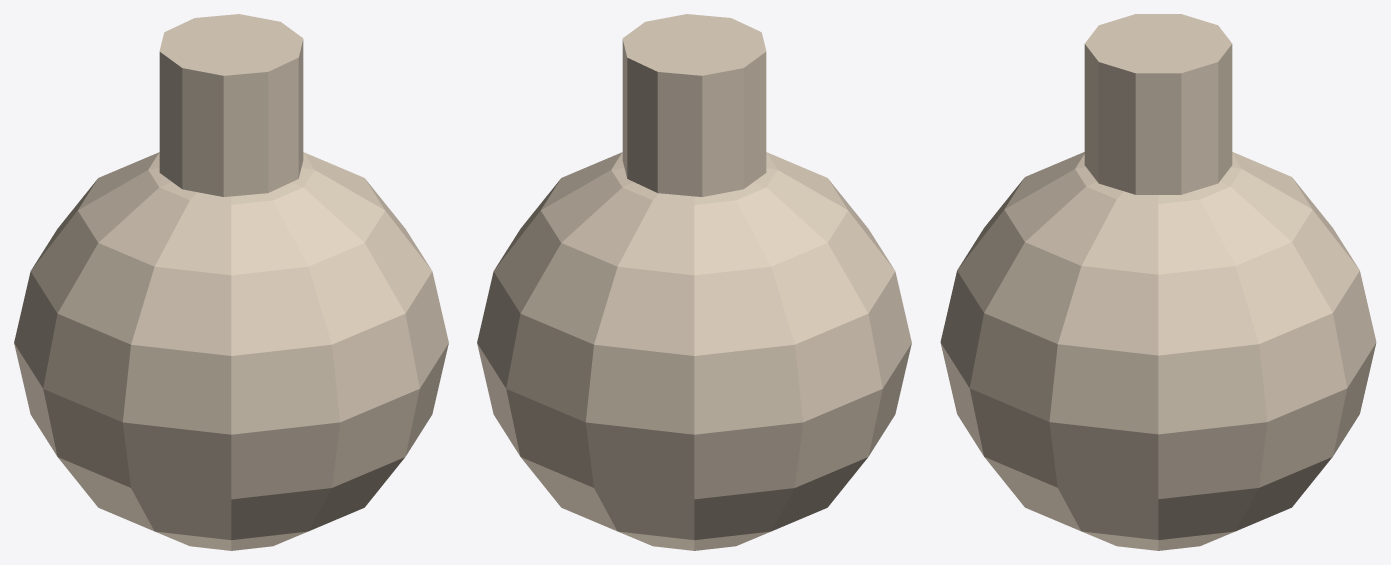
File: bubble_token.glb
3 renders of one model, left to right at view 1: azimuth 30°, elevation 25°; view 2: azimuth 150°, elevation 25°; view 3: azimuth 270°, elevation 25°, orthographic.
Visible parts, largest first — view 1: bubble_token; view 2: bubble_token; view 3: bubble_token.
Part boxes in pixels (x1,y1,x2,y2): bubble_token: (14, 14, 448, 550); bubble_token: (477, 14, 911, 550); bubble_token: (940, 14, 1376, 550).
Size of the model in its own units: 0.13 by 0.16 by 0.13.
